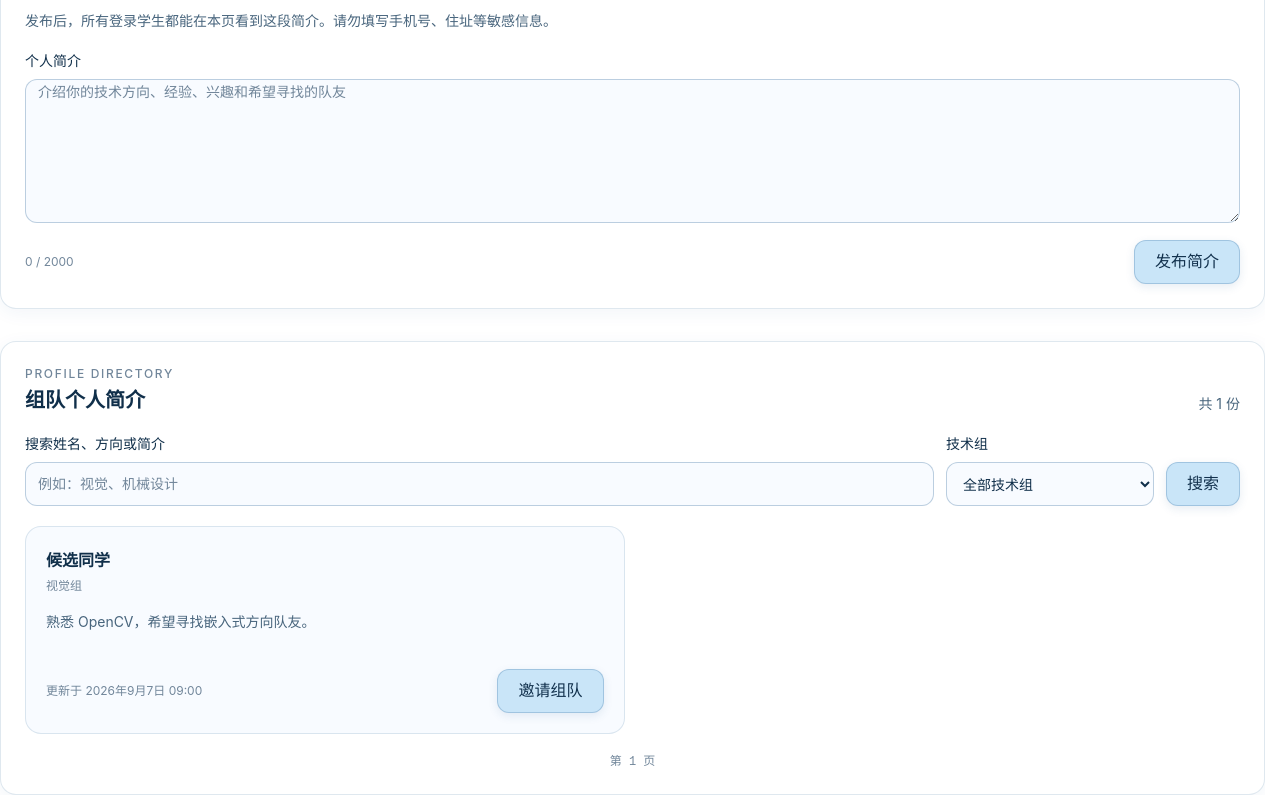
team profile invitations › lets a regular team member invite from a submitted profile
(page scrolled)
Check: the text "熟悉 OpenCV，希望寻找嵌入式方向队友。" is shown, box [46,613,316,630]
Click the button "邀请组队".
click(550, 691)  # box [498,669,604,713]
(page scrolled)
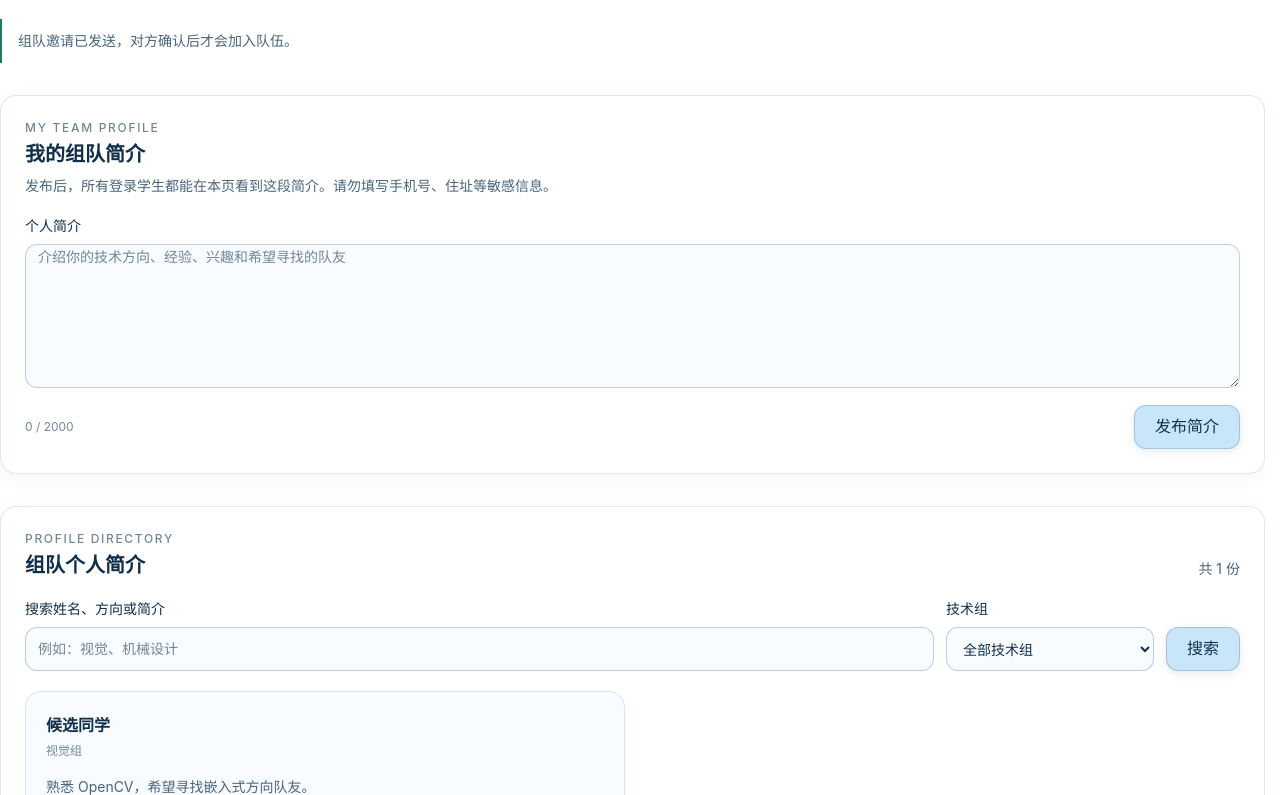
Check: the text "组队邀请已发送，对方确认后才会加入队伍。" is shown, box [0,19,1265,63]
